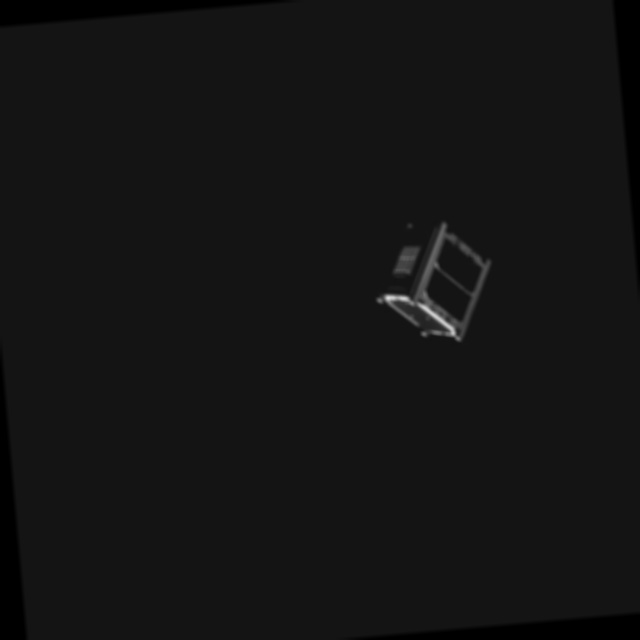medium_debris: (375, 208, 501, 357)
